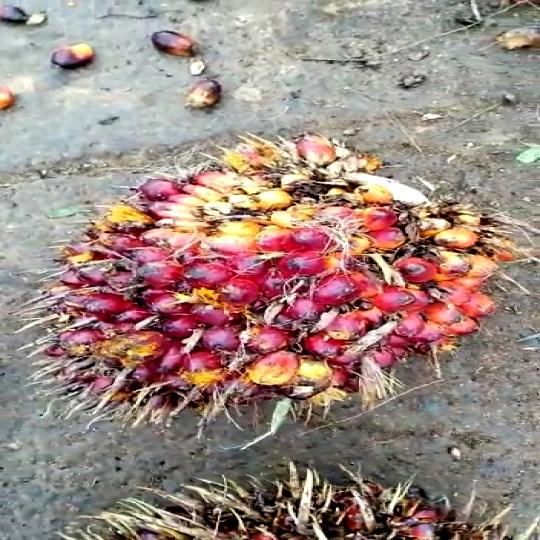masak: (41, 133, 514, 432)
